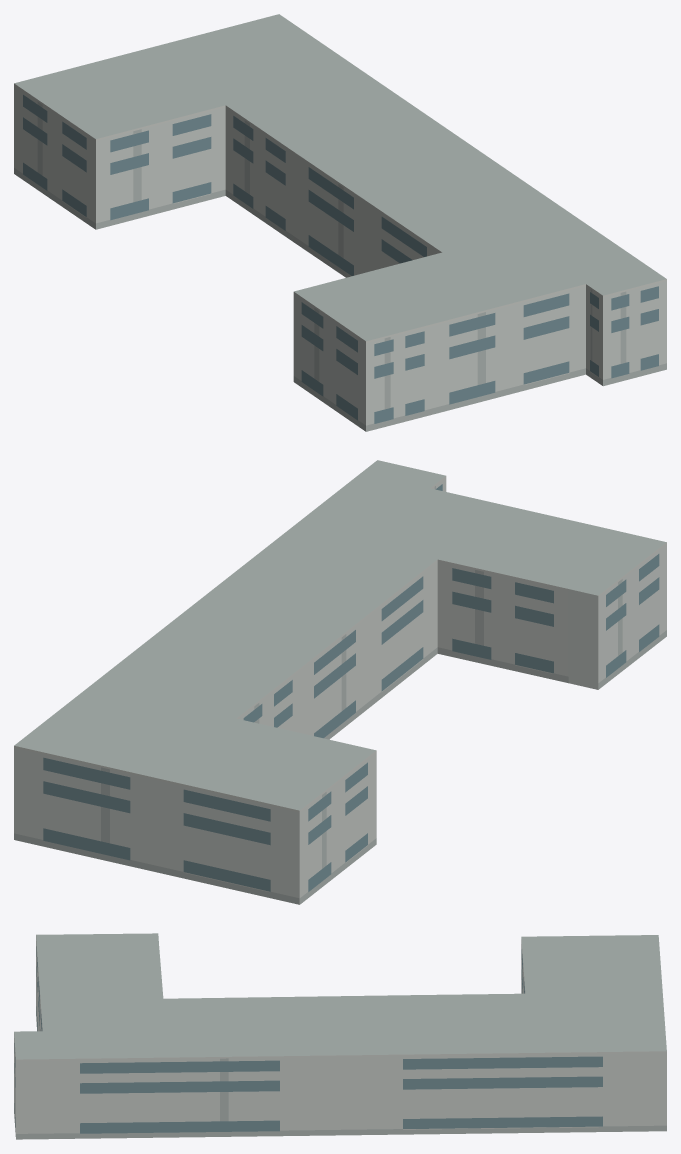
File: residential-fe6961bd-d876-4545-8aa3-d01f292e1026.glb
3 renders of one model, top to bottom at view 1: azimuth 30°, elevation 25°; view 2: azimuth 150°, elevation 25°; view 3: azimuth 270°, elevation 25°, orthographic. The views are drawn at different scales.
Parts seen in each view (by area): view 1: residential-fe6961bd-d876-4545-8aa3-d01f292e1026.tmp; view 2: residential-fe6961bd-d876-4545-8aa3-d01f292e1026.tmp; view 3: residential-fe6961bd-d876-4545-8aa3-d01f292e1026.tmp.
Boxes of the visible parts, x1,y1,x2,y2 form: residential-fe6961bd-d876-4545-8aa3-d01f292e1026.tmp: (14,14,666,431); residential-fe6961bd-d876-4545-8aa3-d01f292e1026.tmp: (14,460,666,904); residential-fe6961bd-d876-4545-8aa3-d01f292e1026.tmp: (14,933,666,1139).
Size of the model in its own units: 41.28 by 12.2 by 90.28.
